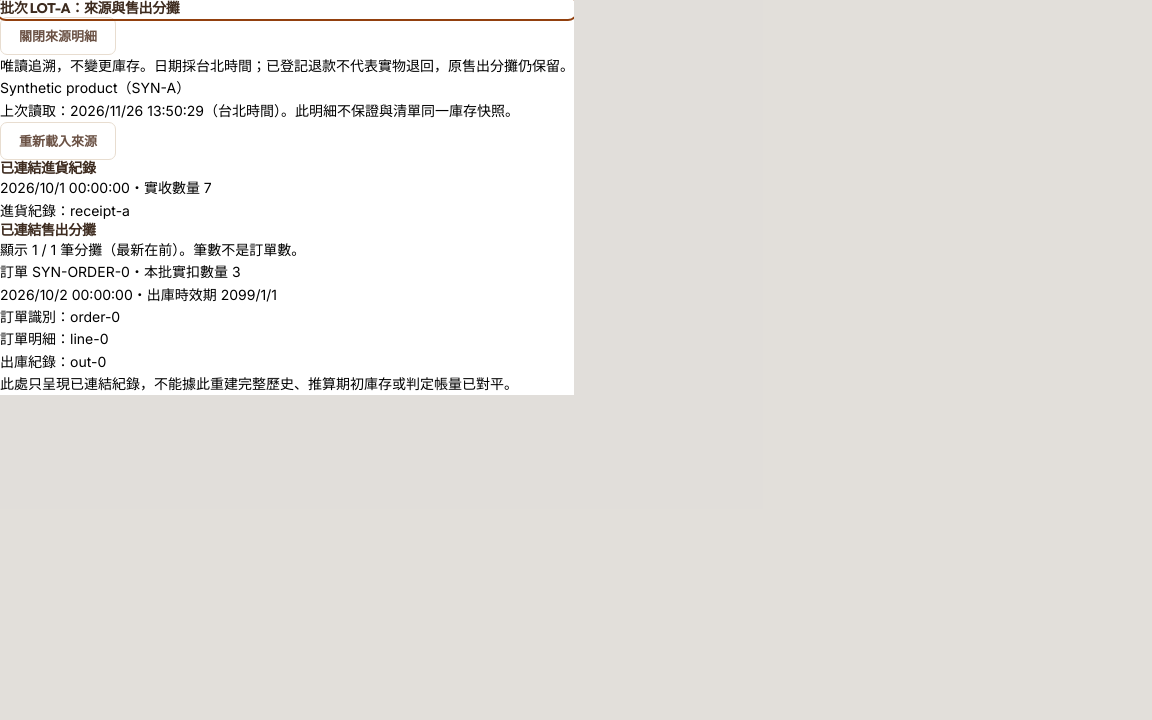
it: batch source dialog through real read client and synthetic HTTP › hides a prior success when refresh fails and recovers without writes or duplicate pending retry
Later steps or results of the test are not shown.
Expected: the text "訂單 SYN-ORDER-0・本批實扣數量 3" is shown, [0,263,240,280]
Click the button "重新載入來源" at (58, 141), box [0,122,116,160]
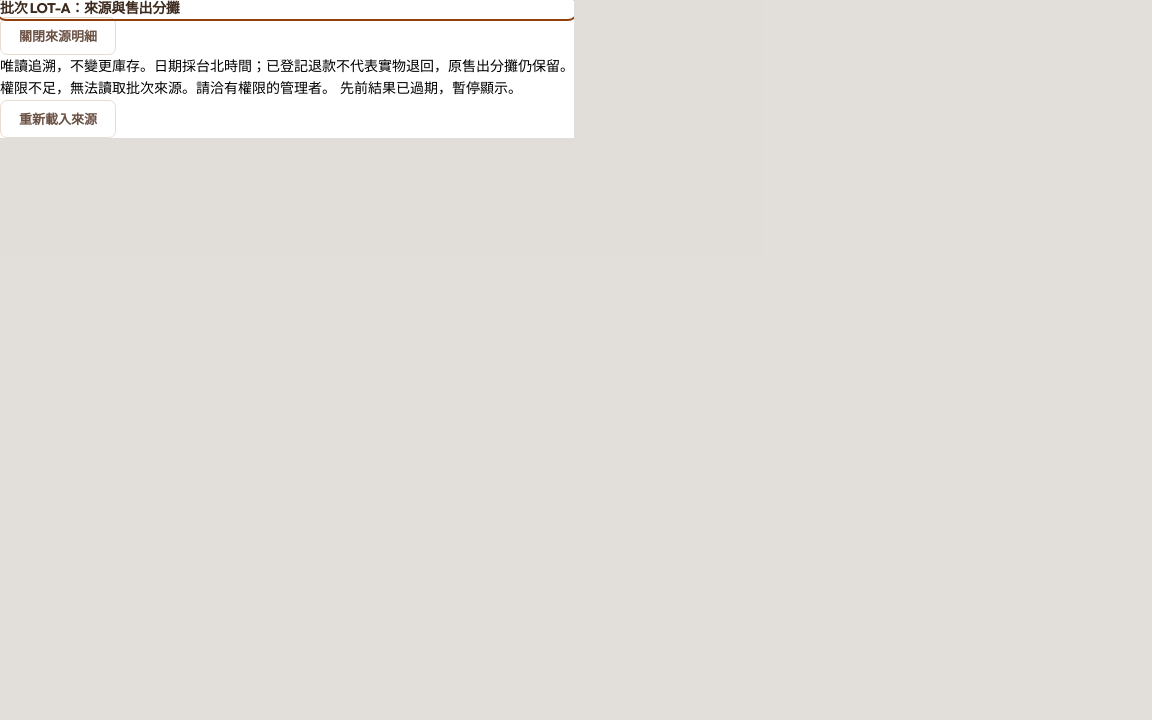
Result: the message shows "先前結果已過期" at [336,79,522,96]
Result: the text "SYN-ORDER-0" is gone
Click the button "重新載入來源" at (58, 119), box [0,100,116,138]
Click the button "重新載入來源" at (58, 119), box [0,100,116,138]
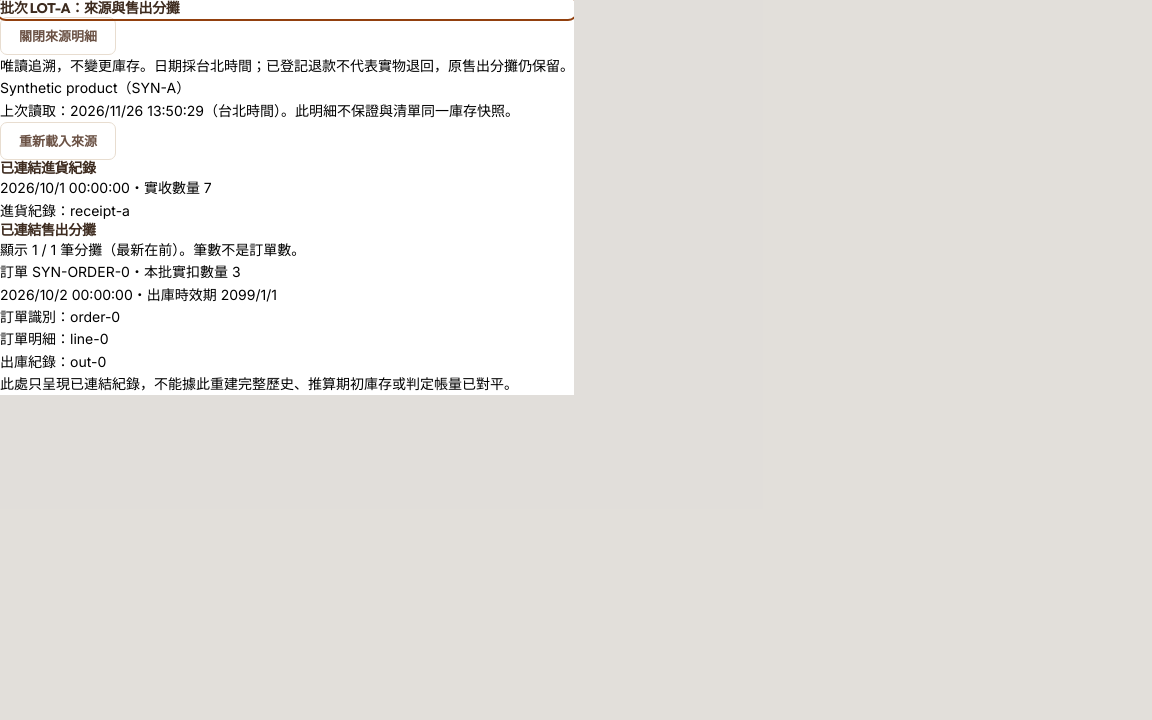
Result: the text "訂單 SYN-ORDER-0・本批實扣數量 3" is shown at [0,263,240,280]
